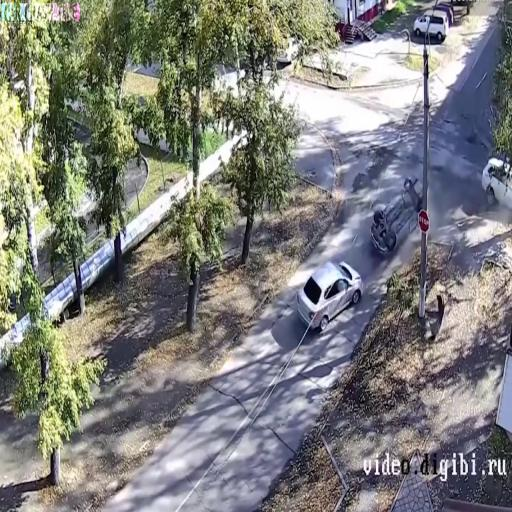小汽车: (296, 250, 366, 329), (368, 172, 424, 258), (482, 143, 512, 209), (411, 2, 451, 44)
